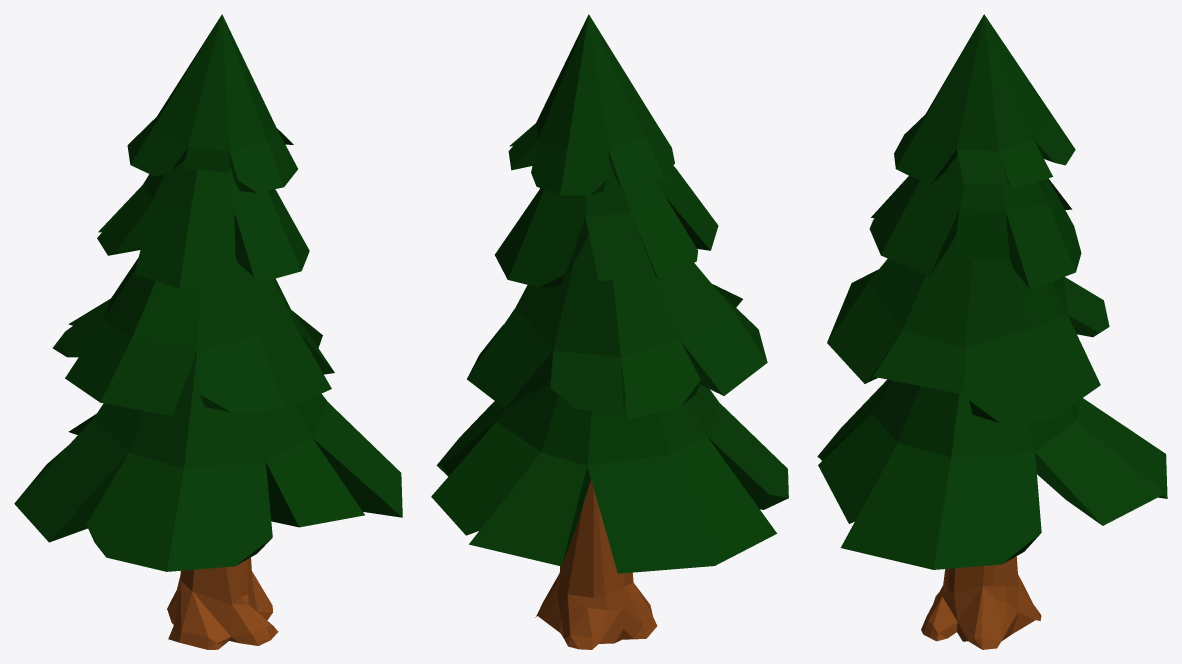
File: tree1.fbx
3 views of the same model, side by side, from view 1: azimuth 30°, elevation 25°; view 2: azimuth 150°, elevation 25°; view 3: azimuth 270°, elevation 25° (orthographic).
Visible parts, largest first — view 1: pCone9; view 2: pCone9; view 3: pCone9.
Part boxes in pixels (<box>): pCone9: <box>14,14,402,649</box>; pCone9: <box>431,14,788,649</box>; pCone9: <box>817,14,1167,649</box>.
Size of the model in its own units: 517 by 902 by 467.
